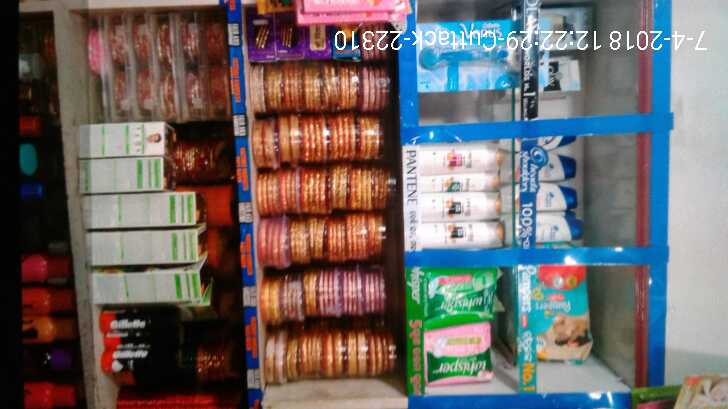venus: (414, 22, 519, 92)
